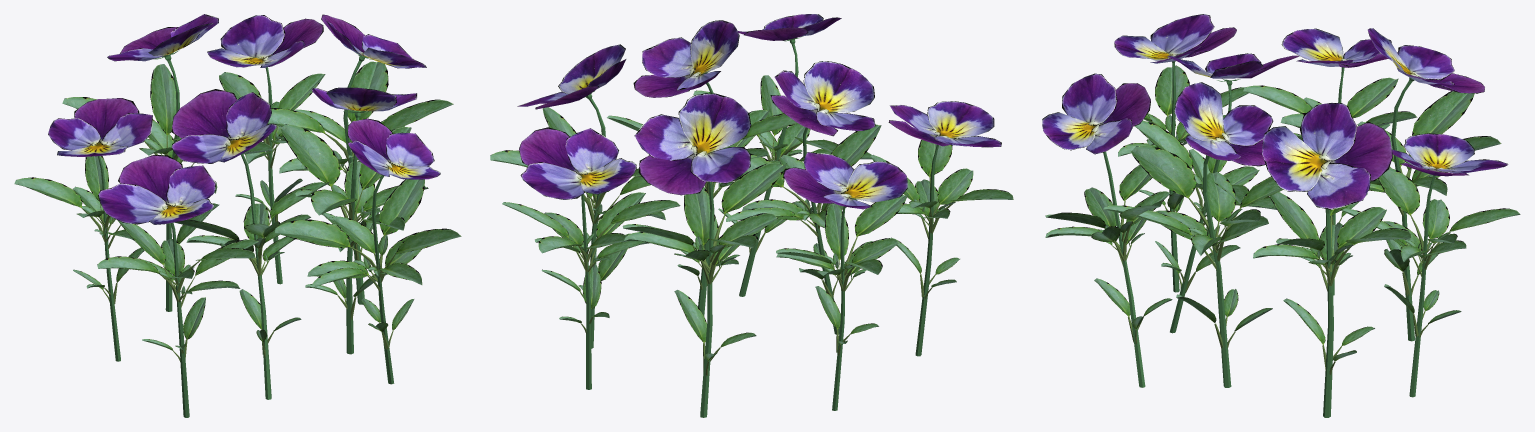
The model's file is sweethome3d-scopia-pansy.glb.
3 views of the same model, side by side, from view 1: azimuth 30°, elevation 25°; view 2: azimuth 150°, elevation 25°; view 3: azimuth 270°, elevation 25° (orthographic). The views are drawn at different scales.
Visible parts, largest first — view 1: Trunk.006, Trunk.001, PansyFlower.004, PansyFlower.001, Trunk.004, Trunk.003, Trunk.002, PansyFlower.003, PansyFlower.007, Trunk.007, PansyFlower.005, Trunk.005 (+4 smaller); view 2: PansyFlower, Trunk.005, PansyFlower.007, Trunk.007, Trunk.008, PansyFlower.001, Trunk.004, PansyFlower.002, PansyFlower.003, Trunk.003, PansyFlower.004, Trunk.006 (+4 smaller); view 3: PansyFlower.006, Trunk.001, Trunk.002, Trunk.008, PansyFlower.005, Trunk.006, PansyFlower.002, Trunk.005, Trunk.003, PansyFlower.004, PansyFlower.007, PansyFlower (+4 smaller).
Boxes of the visible parts, x1=… form: Trunk.006: x1=275, y1=175, x2=461, y2=384; Trunk.001: x1=280, y1=110, x2=428, y2=354; PansyFlower.004: x1=98, y1=155, x2=215, y2=224; PansyFlower.001: x1=171, y1=89, x2=276, y2=163; Trunk.004: x1=97, y1=220, x2=258, y2=417; Trunk.003: x1=174, y1=153, x2=329, y2=399; Trunk.002: x1=268, y1=52, x2=453, y2=304; PansyFlower.003: x1=48, y1=98, x2=152, y2=156; PansyFlower.007: x1=207, y1=15, x2=323, y2=67; Trunk.007: x1=14, y1=156, x2=144, y2=361; PansyFlower.005: x1=347, y1=118, x2=440, y2=179; Trunk.005: x1=62, y1=50, x2=273, y2=311; PansyFlower: x1=634, y1=93, x2=751, y2=195; Trunk.005: x1=622, y1=162, x2=786, y2=417; PansyFlower.007: x1=519, y1=127, x2=636, y2=199; Trunk.007: x1=776, y1=194, x2=907, y2=410; Trunk.008: x1=502, y1=192, x2=680, y2=389; PansyFlower.001: x1=770, y1=61, x2=875, y2=136; Trunk.004: x1=870, y1=139, x2=1013, y2=356; PansyFlower.002: x1=633, y1=20, x2=739, y2=97; PansyFlower.003: x1=783, y1=152, x2=907, y2=209; Trunk.003: x1=726, y1=124, x2=881, y2=334; PansyFlower.004: x1=888, y1=101, x2=1001, y2=147; Trunk.006: x1=693, y1=36, x2=871, y2=296; PansyFlower.006: x1=1262, y1=103, x2=1392, y2=209; Trunk.001: x1=1103, y1=146, x2=1283, y2=387; Trunk.002: x1=1253, y1=192, x2=1411, y2=417; Trunk.008: x1=1341, y1=167, x2=1520, y2=397; PansyFlower.005: x1=1042, y1=73, x2=1150, y2=154; Trunk.006: x1=1045, y1=152, x2=1172, y2=387; PansyFlower.002: x1=1174, y1=82, x2=1273, y2=166; Trunk.005: x1=1280, y1=77, x2=1501, y2=341; Trunk.003: x1=1134, y1=79, x2=1276, y2=333; PansyFlower.004: x1=1114, y1=14, x2=1236, y2=63; PansyFlower.007: x1=1392, y1=133, x2=1508, y2=176; PansyFlower: x1=1367, y1=28, x2=1484, y2=93.
Size of the model in its own units: 30.82 by 21.51 by 30.27.
Materials: 4 (2 with a texture image).
